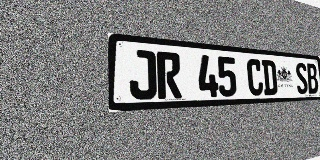4: (197, 55, 219, 98)
5: (217, 56, 237, 97)
B: (306, 63, 319, 94)
C: (246, 58, 264, 96)
D: (262, 60, 278, 95)
J: (129, 49, 157, 100)
R: (156, 51, 182, 99)
S: (295, 62, 308, 94)
